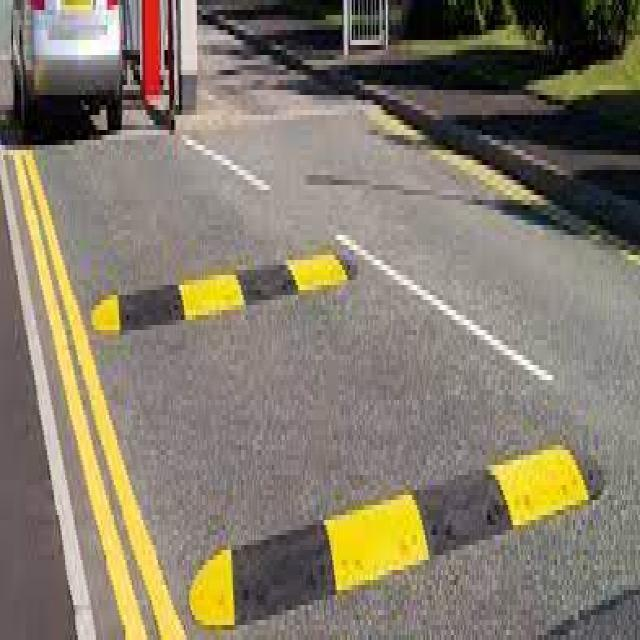Marked Bump: (207, 436, 610, 616), (100, 263, 350, 327)
